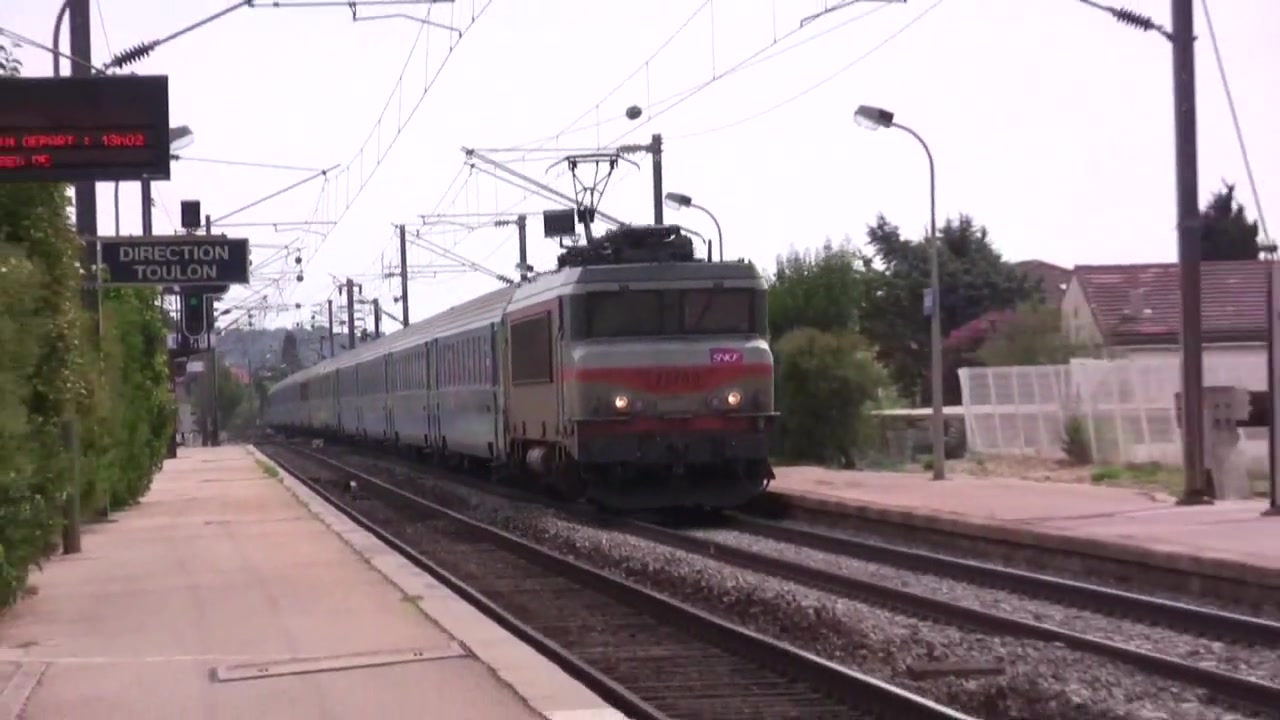train: (257, 227, 782, 511)
